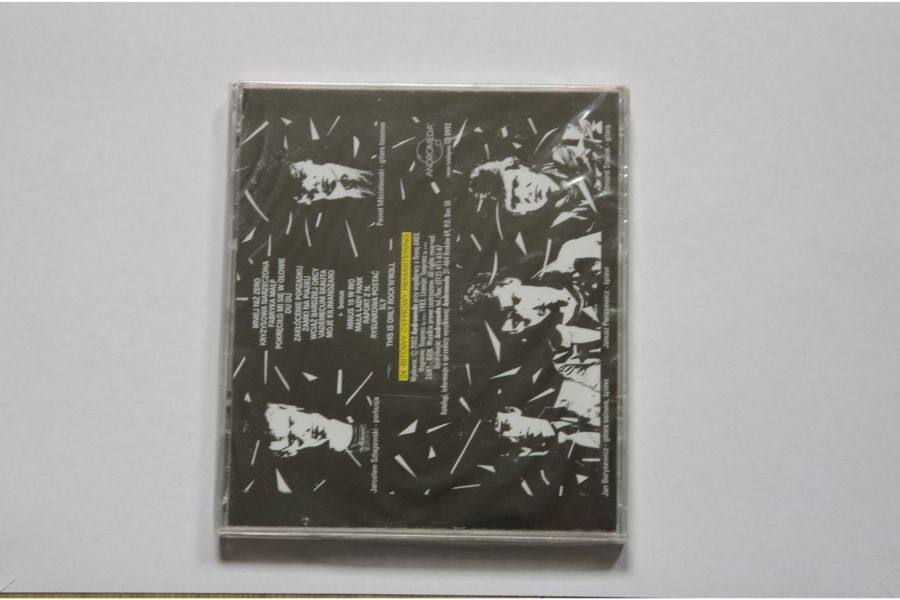album: (215, 81, 630, 546)
